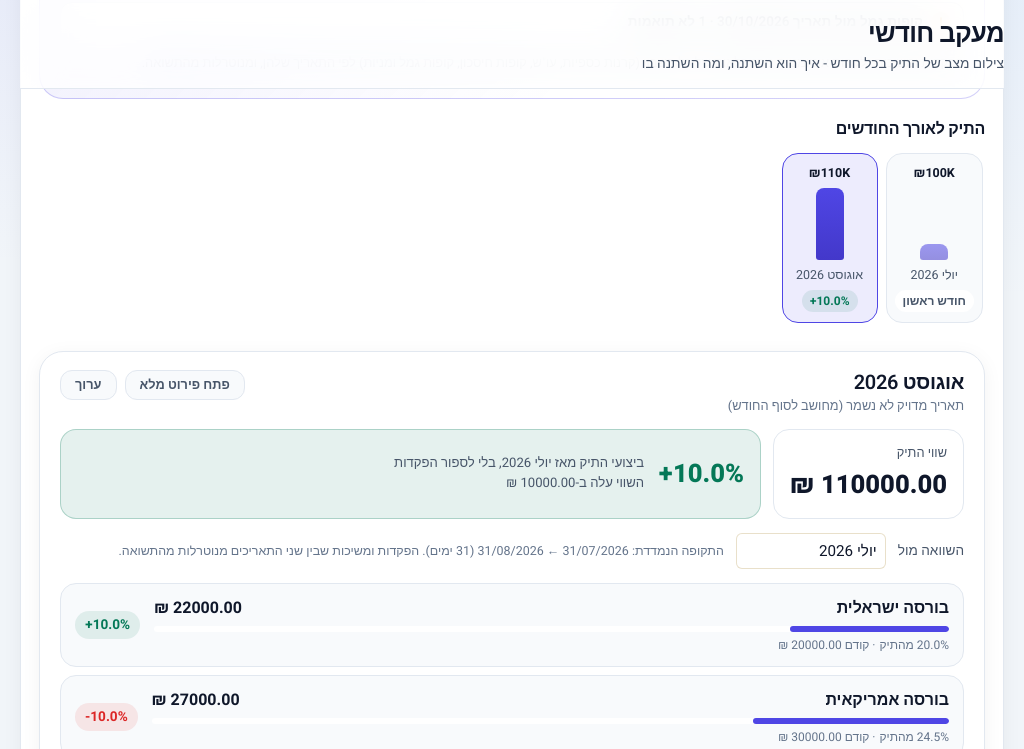
MonthlyTrackerView › editing the shown month: "ערוך" turns every row into inputs, and saving sends the updated breakdown/total, then exits edit mode
(page scrolled)
Click the button "ערוך". click: (88, 385)
box: [60,370,116,400]
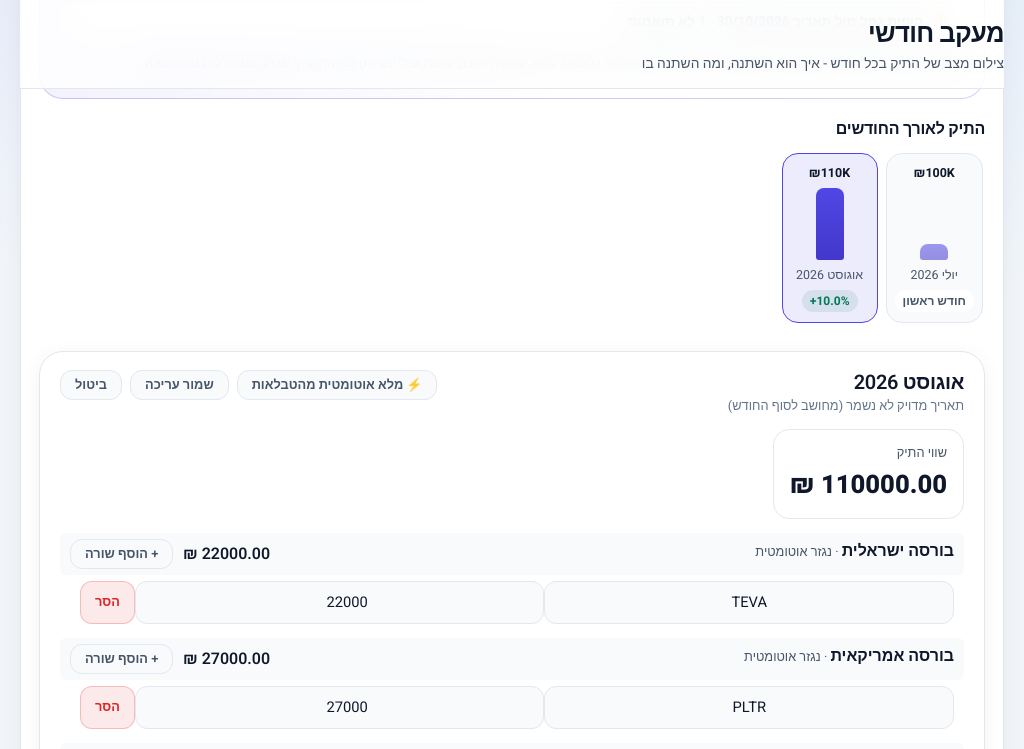
Replace the text in the number field showing "27000" with "29000". click: (340, 708)
box: [135,686,544,729]
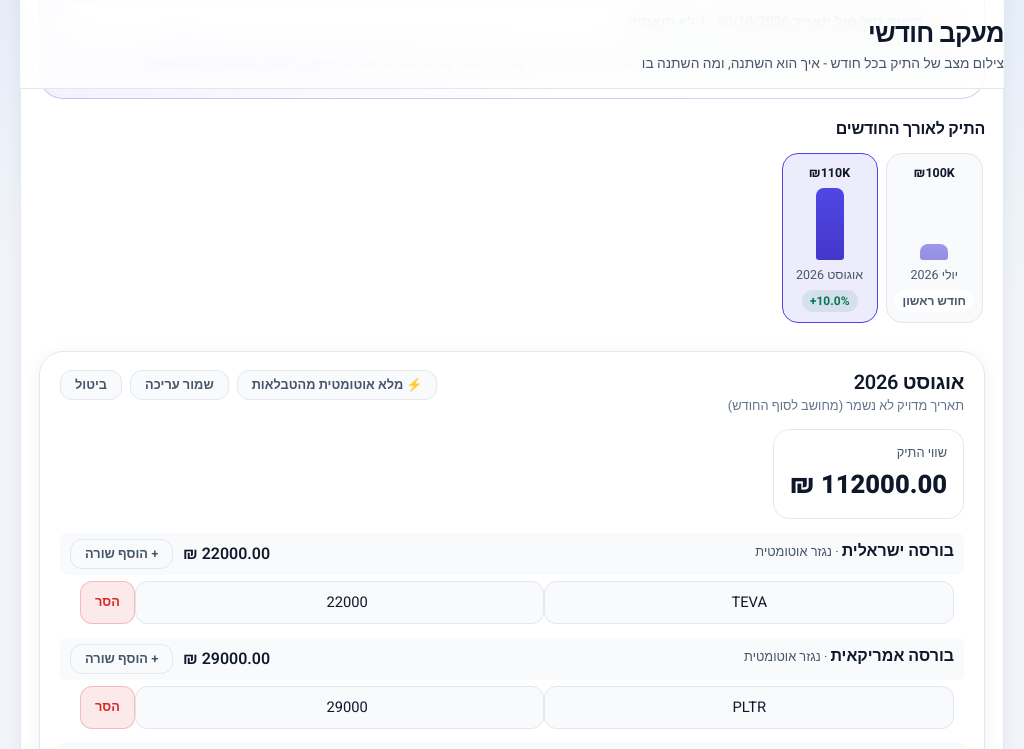
Click the button "שמור עריכה". click: (179, 385)
box: [130,370,229,400]
(page scrolled)
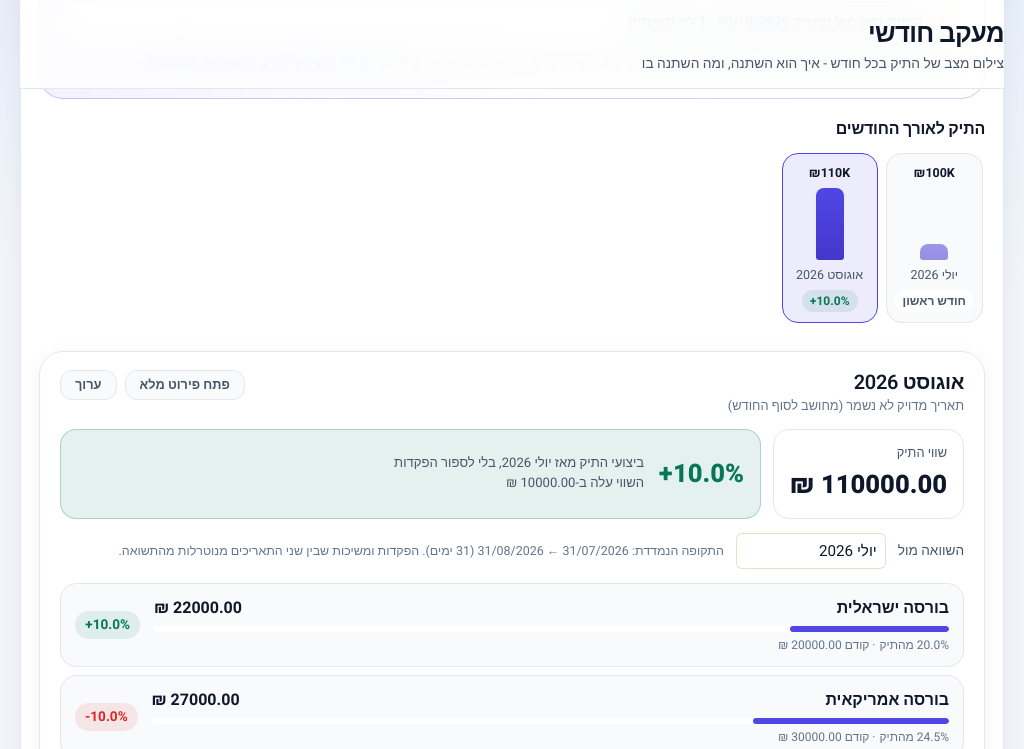
Expected: the button "שמור עריכה" is gone
Expected: the button "ערוך" is shown, [60,370,116,400]
